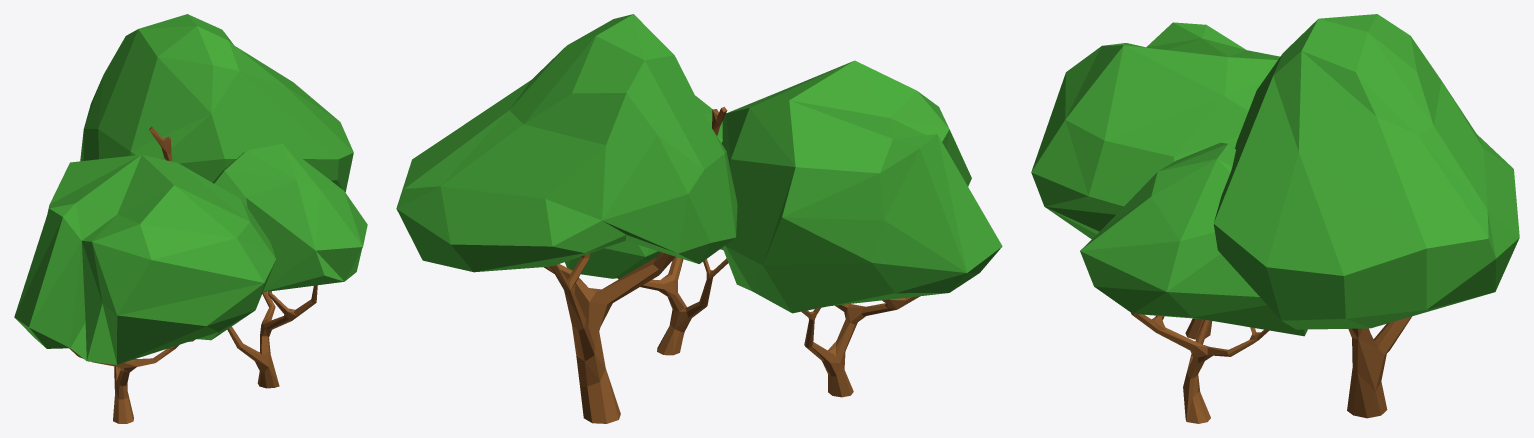
Rendered from Tree.fbx.
3 renders of one model, left to right at view 1: azimuth 30°, elevation 25°; view 2: azimuth 150°, elevation 25°; view 3: azimuth 270°, elevation 25°, orthographic. The views are drawn at different scales.
Parts seen in each view (by area): view 1: Lowpoly_Tree_12, Lowpoly_Tree_14, Lowpoly_Tree_13; view 2: Lowpoly_Tree_14, Lowpoly_Tree_12, Lowpoly_Tree_13; view 3: Lowpoly_Tree_14, Lowpoly_Tree_12, Lowpoly_Tree_13.
Boxes of the visible parts, x1=… form: Lowpoly_Tree_12: x1=14, y1=154, x2=275, y2=423; Lowpoly_Tree_14: x1=80, y1=14, x2=353, y2=341; Lowpoly_Tree_13: x1=213, y1=143, x2=367, y2=388; Lowpoly_Tree_14: x1=396, y1=14, x2=737, y2=423; Lowpoly_Tree_12: x1=721, y1=60, x2=1002, y2=397; Lowpoly_Tree_13: x1=565, y1=96, x2=728, y2=355; Lowpoly_Tree_14: x1=1213, y1=14, x2=1519, y2=418; Lowpoly_Tree_12: x1=1031, y1=22, x2=1279, y2=339; Lowpoly_Tree_13: x1=1080, y1=142, x2=1307, y2=423.
Bounding box in the file's own units: 109 × 85.89 × 98.08.
